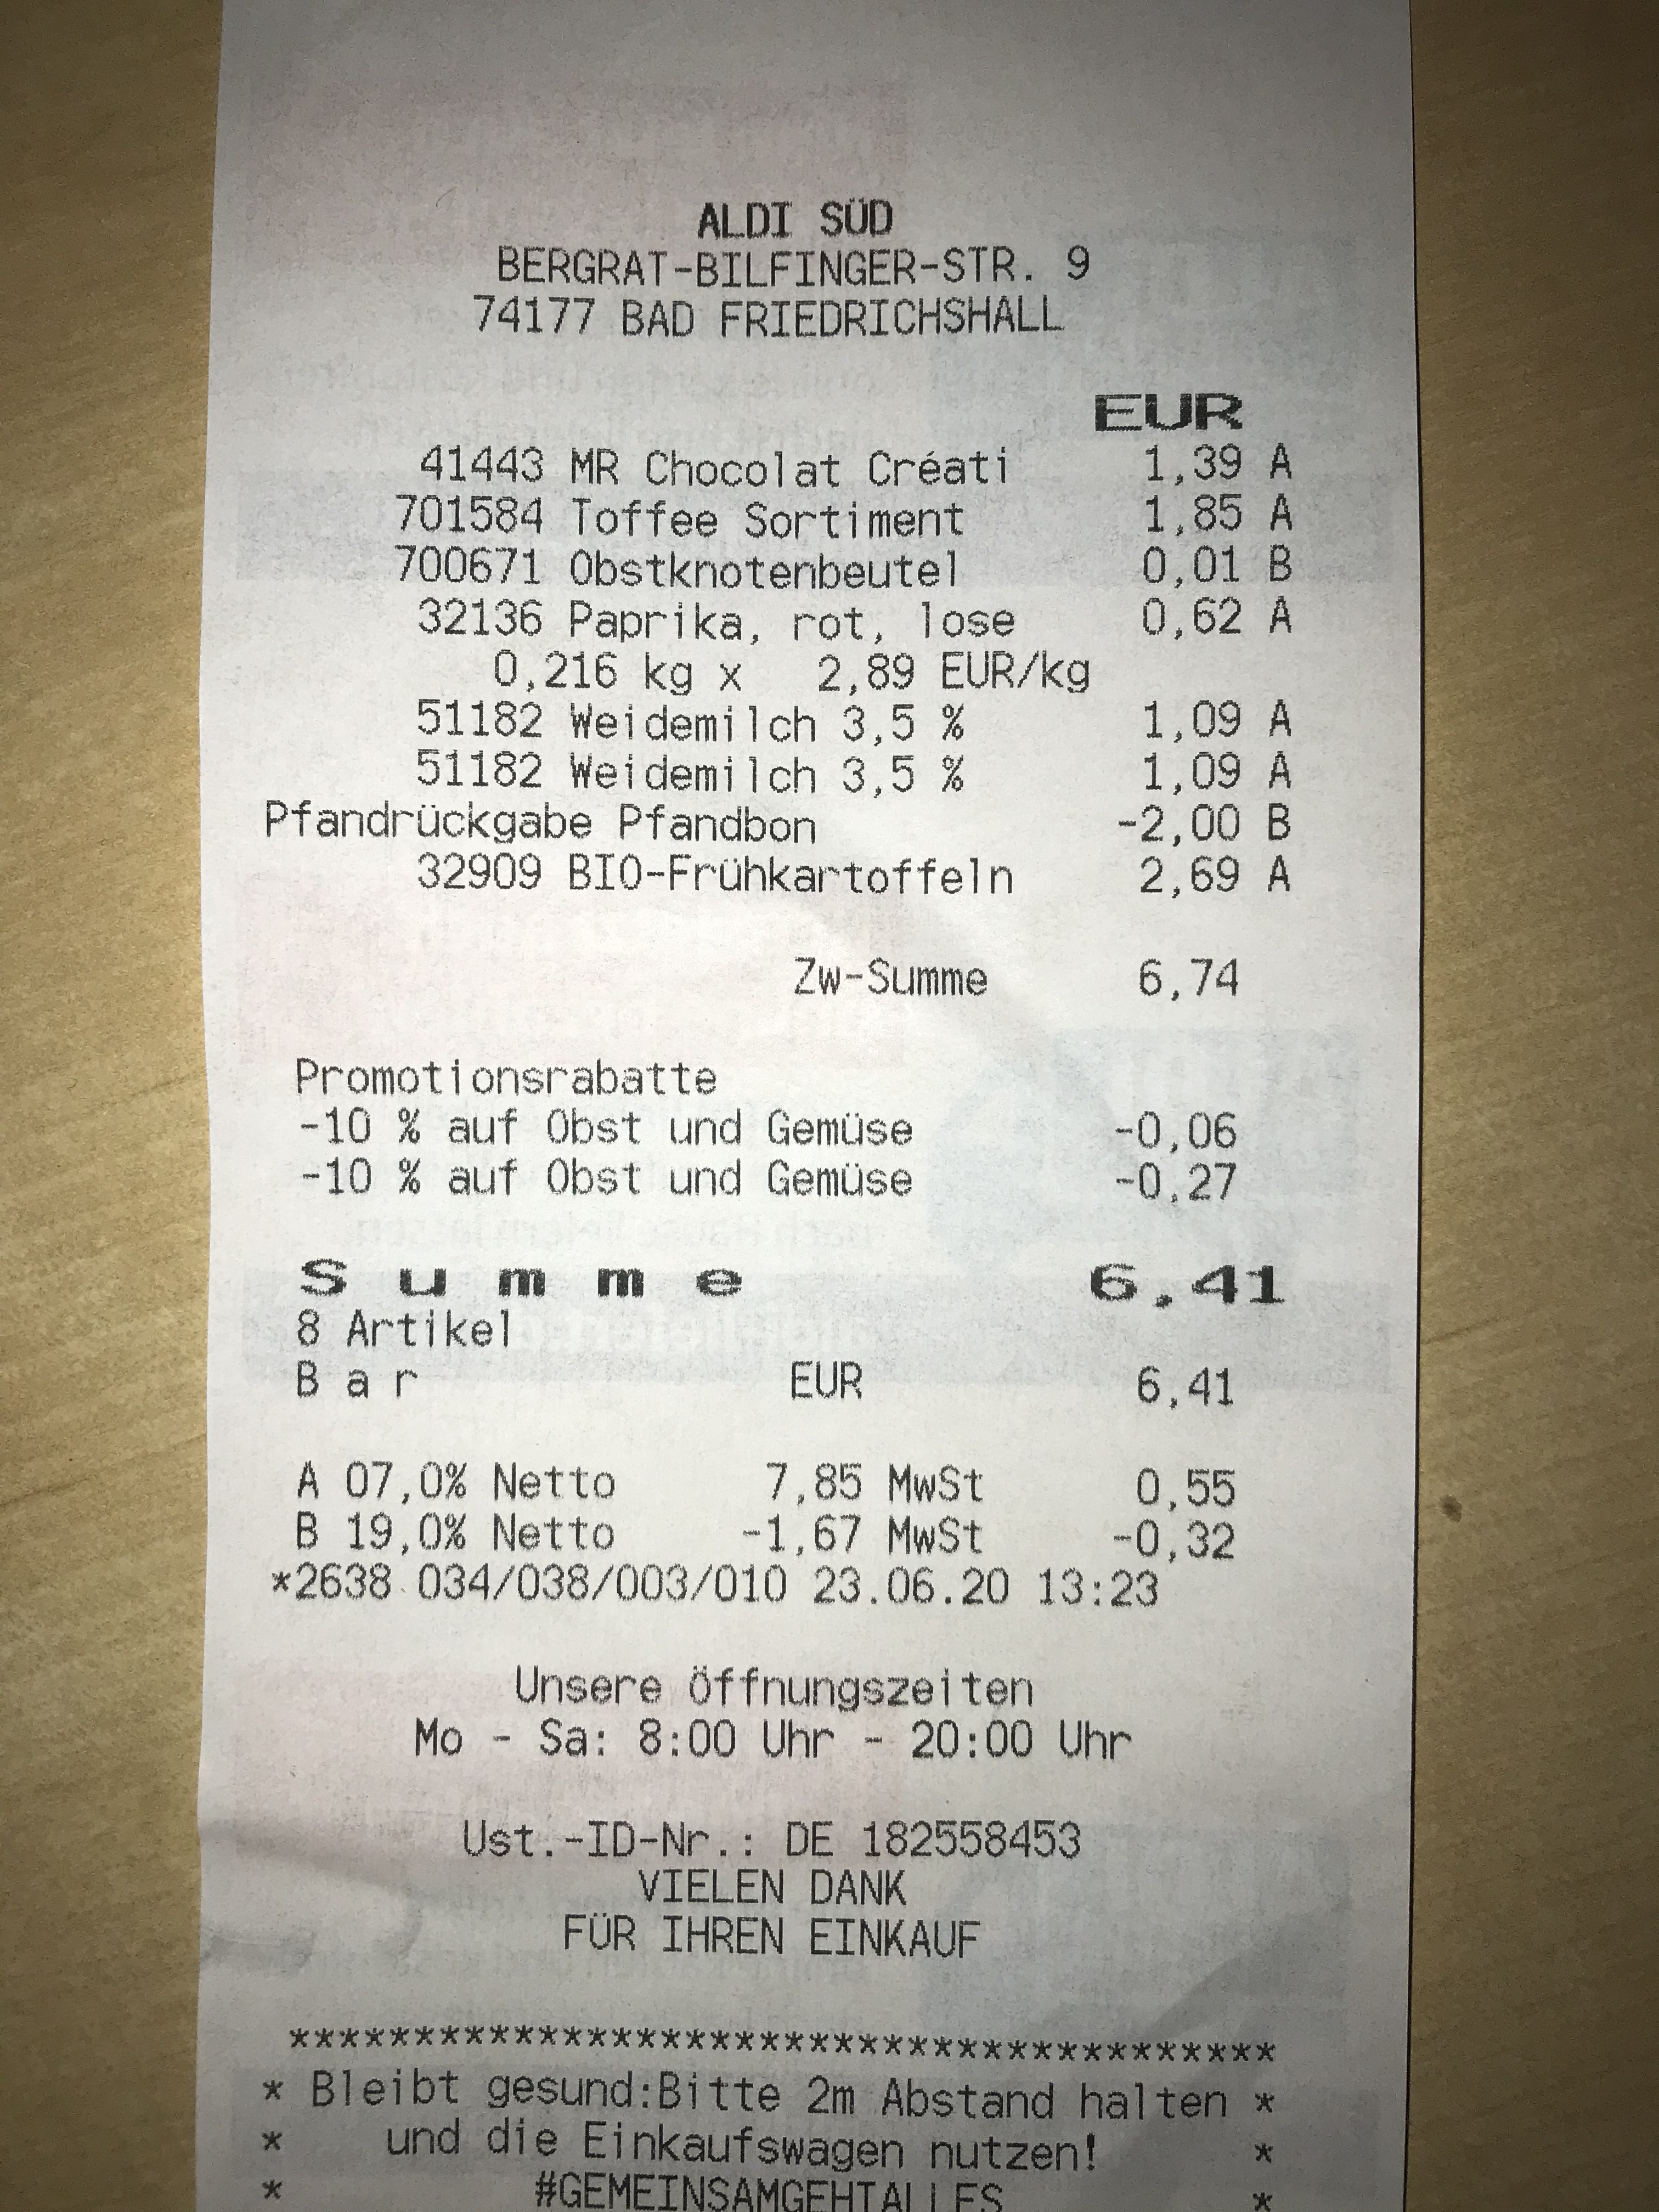Product: (566, 580, 1026, 650), (559, 735, 978, 805), (565, 841, 1021, 904), (559, 439, 1021, 493), (554, 540, 972, 599), (558, 491, 979, 543), (566, 693, 971, 747)
